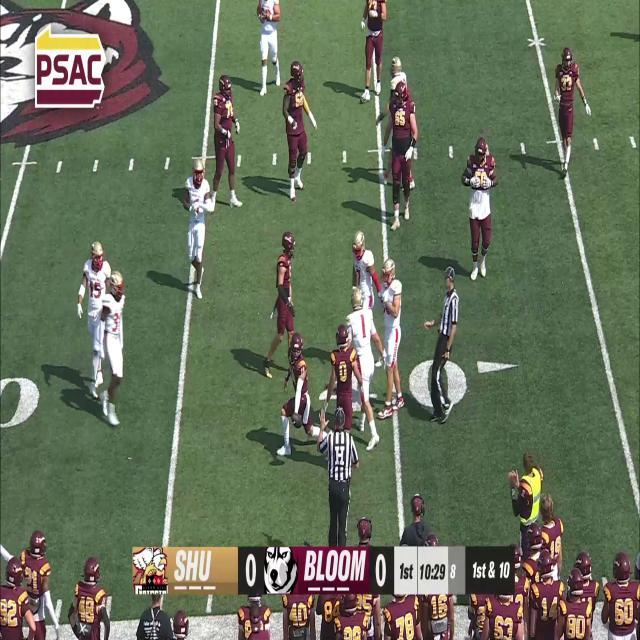football: (292, 412, 302, 429)
